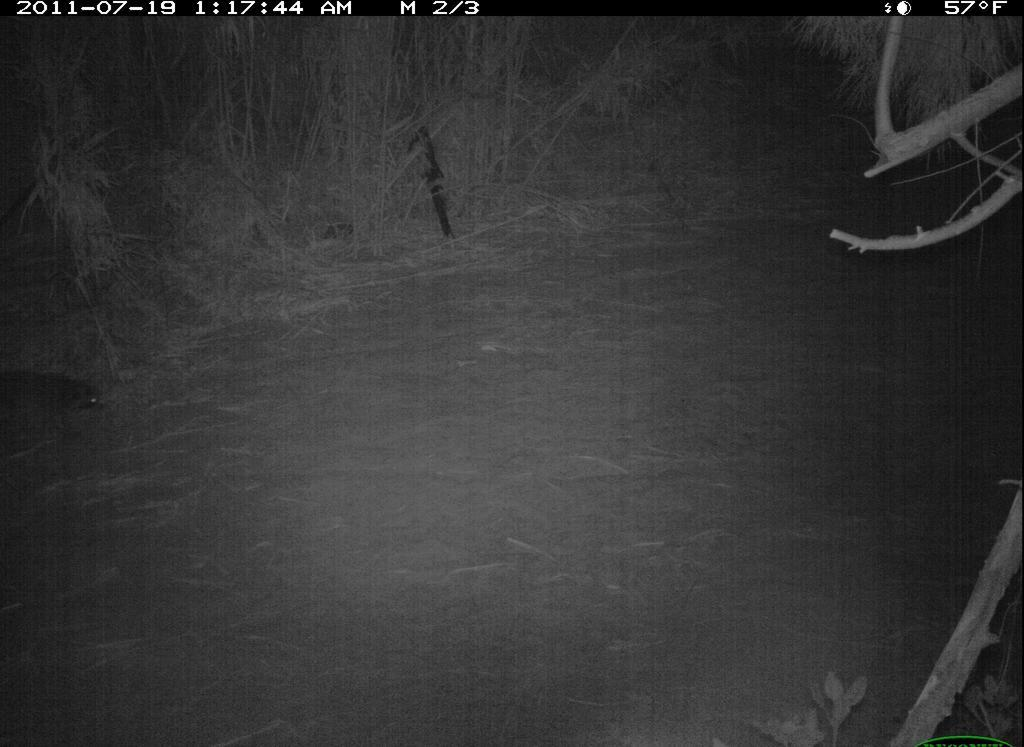raccoon: (9, 356, 117, 445)
